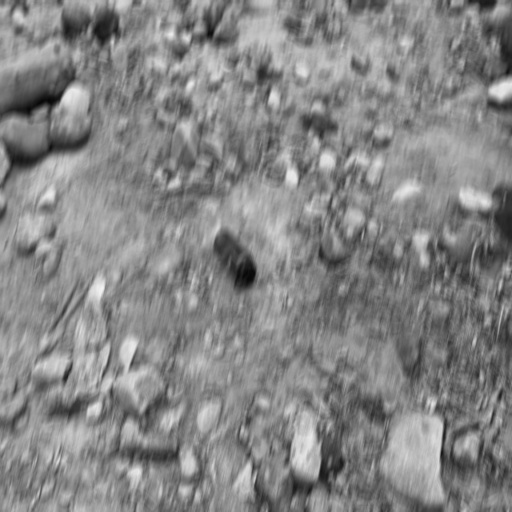bottle: (213, 230, 257, 291)
